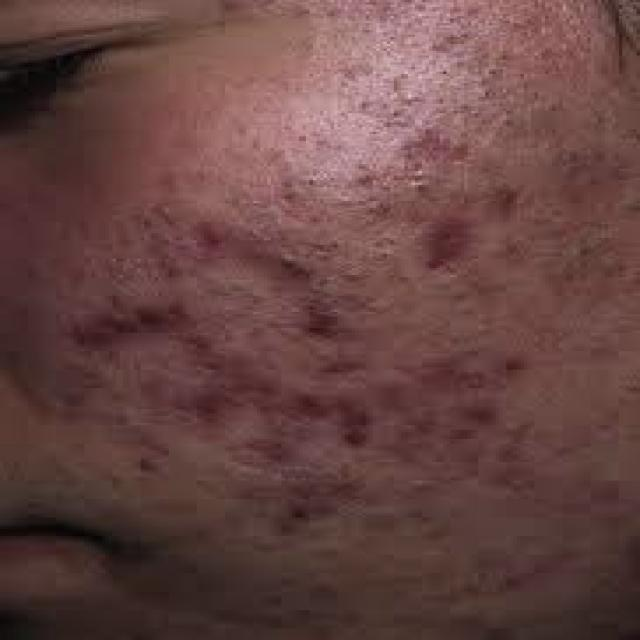Acne: (60, 297, 188, 349), (410, 346, 538, 396), (288, 383, 376, 449), (295, 286, 369, 336), (418, 216, 482, 270), (180, 380, 230, 440), (184, 215, 244, 256), (263, 244, 325, 282)
